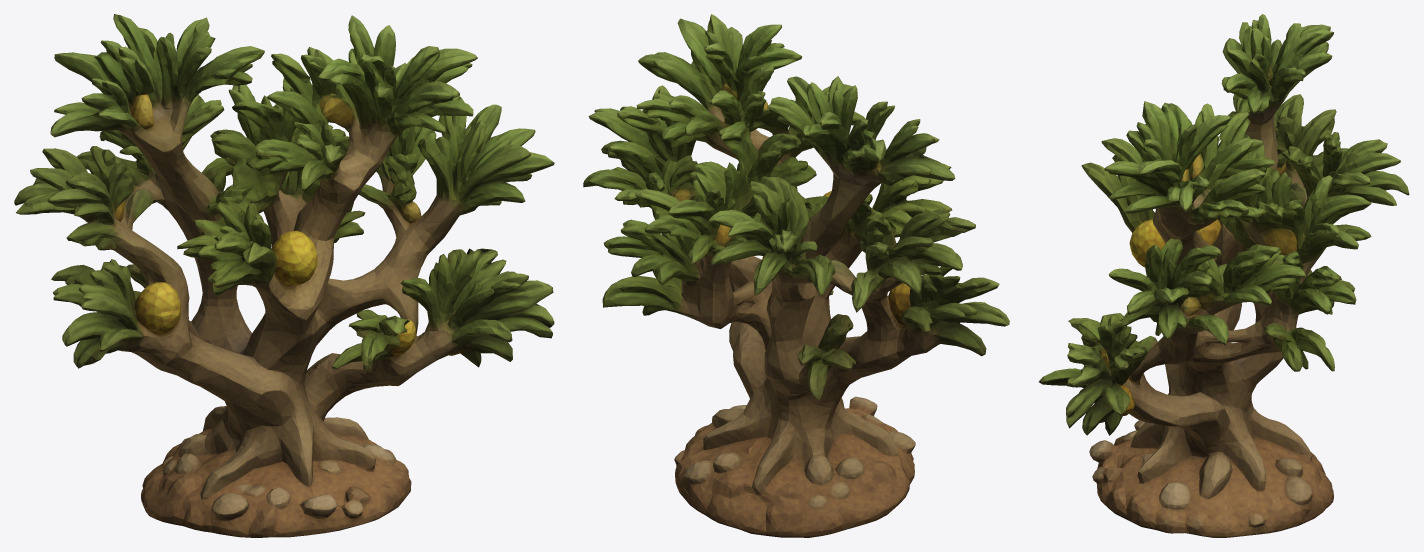
3 renders of one model, left to right at view 1: azimuth 30°, elevation 25°; view 2: azimuth 150°, elevation 25°; view 3: azimuth 270°, elevation 25°, orthographic. The views are drawn at different scales.
Parts seen in each view (by area): view 1: world; view 2: world; view 3: world.
Part boxes in pixels (bbox=[...]): world: bbox=[14, 14, 554, 537]; world: bbox=[583, 14, 1009, 537]; world: bbox=[1039, 14, 1409, 537].
Size of the model in its own units: 0.8152 by 0.8 by 0.6234.
Materials: 1 (1 with a texture image).
